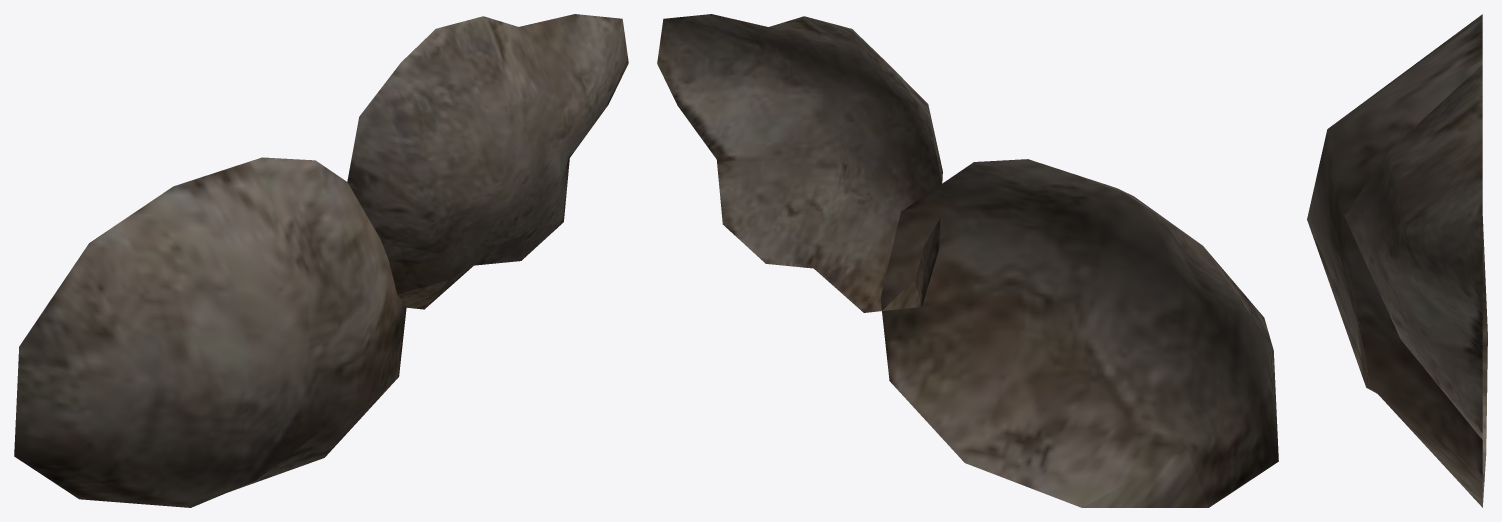
Rendered from prop_toujane_roadrock2.glb.
The picture shows the model from 3 angles, left to right: view 1: azimuth 30°, elevation 25°; view 2: azimuth 150°, elevation 25°; view 3: azimuth 270°, elevation 25°; orthographic projection. The views are drawn at different scales.
Bounding box in the file's own units: 24.72 × 16.06 × 4.94.
1 material, 1 textured.
